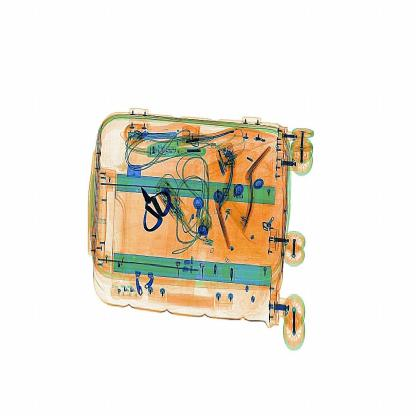gun: (136, 169, 173, 235)
